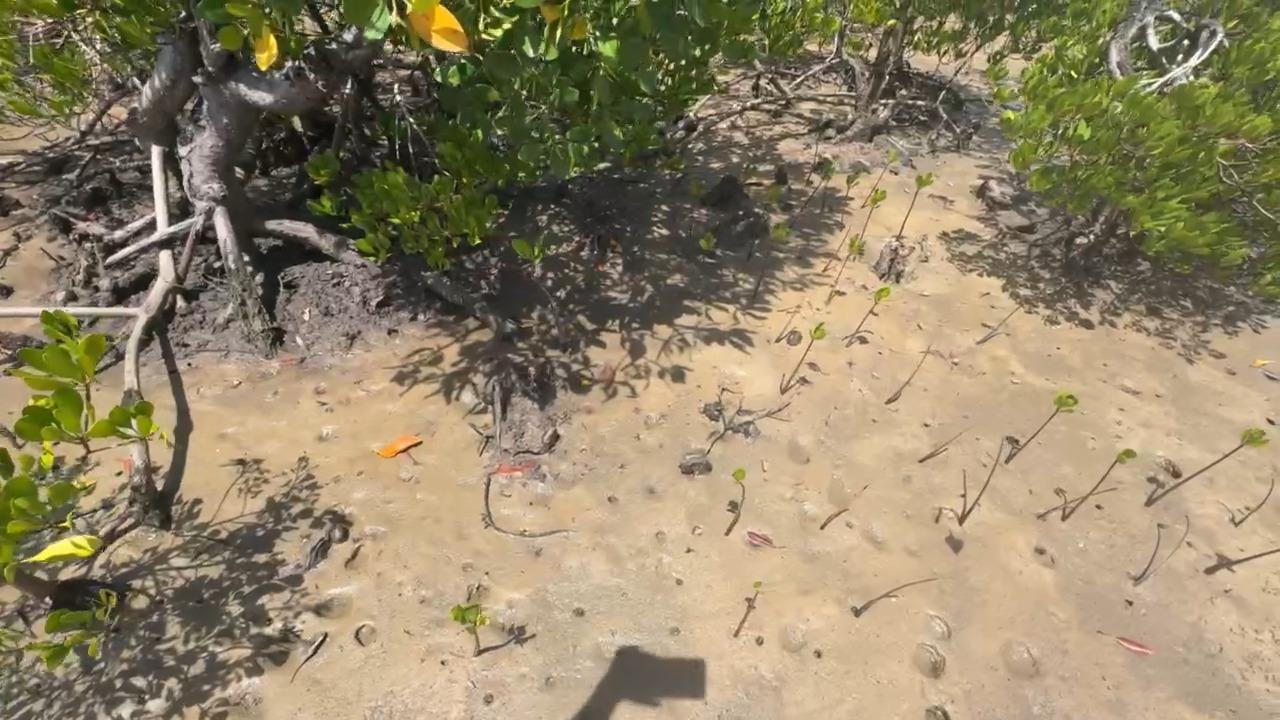Tree: (1143, 428, 1269, 506), (934, 435, 1005, 526), (1055, 447, 1136, 522), (1004, 391, 1077, 463), (1135, 516, 1190, 586), (851, 577, 936, 618), (781, 320, 827, 394), (1037, 487, 1121, 521), (752, 224, 789, 300), (897, 171, 935, 243), (846, 288, 892, 347), (885, 345, 929, 404), (800, 155, 837, 215), (862, 151, 899, 210), (452, 603, 491, 657), (1204, 548, 1280, 575), (976, 302, 1024, 344), (1234, 479, 1275, 528), (835, 233, 868, 286), (860, 188, 887, 241), (919, 432, 964, 463), (759, 185, 789, 219), (734, 469, 750, 509), (700, 231, 717, 266), (845, 172, 860, 198), (750, 581, 764, 607)
